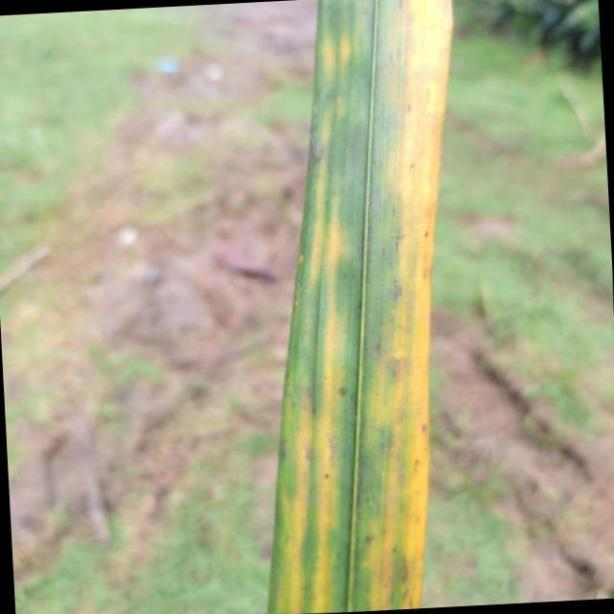Megnesium: (264, 0, 456, 614)
